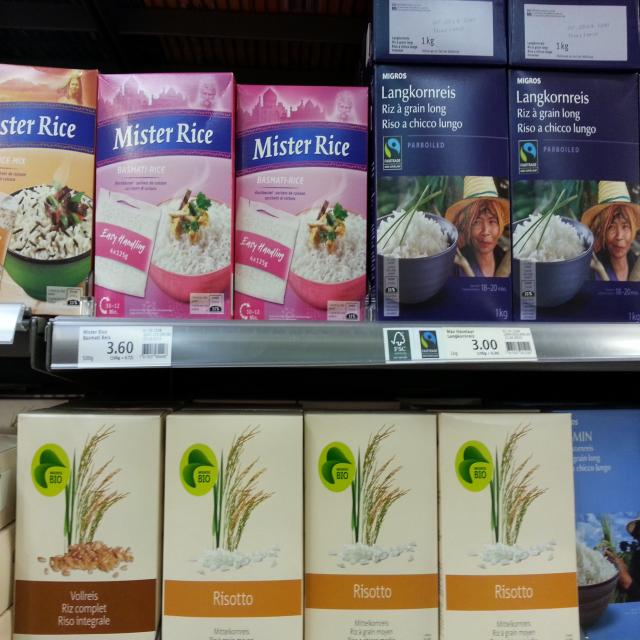Rice: (370, 65, 514, 324), (16, 407, 164, 640), (97, 71, 236, 319), (510, 60, 640, 323), (435, 416, 580, 640), (234, 82, 368, 320), (302, 407, 438, 640), (166, 408, 302, 640), (0, 67, 96, 316), (569, 408, 640, 640)
